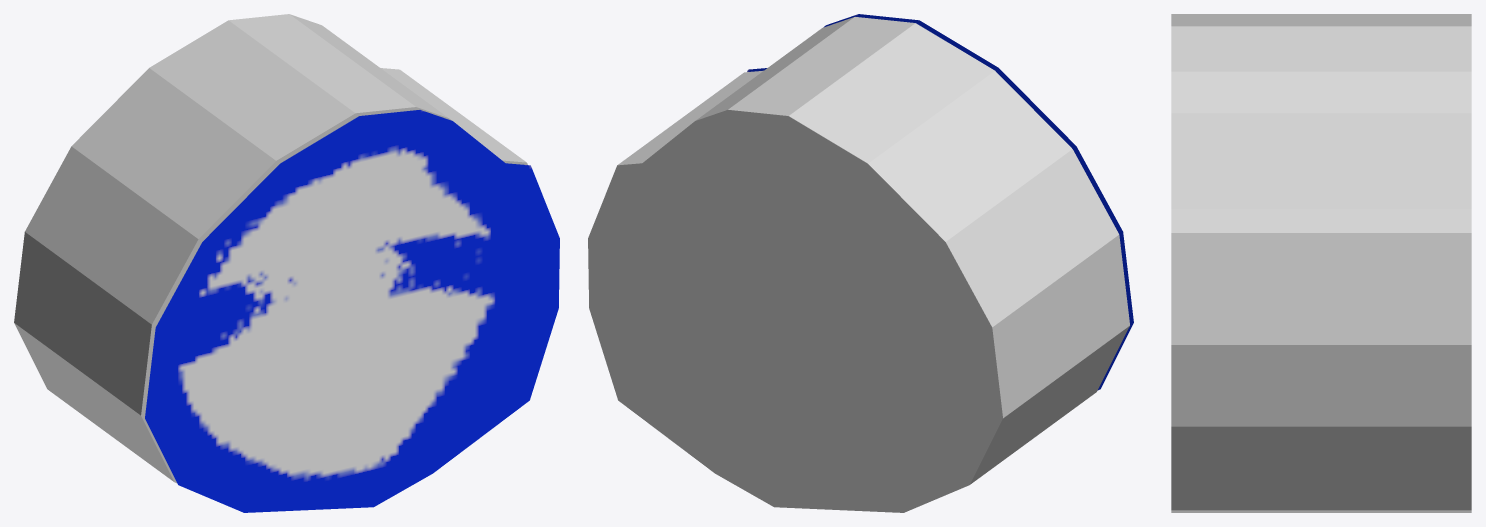
3 views of the same model, side by side, from view 1: azimuth 30°, elevation 25°; view 2: azimuth 150°, elevation 25°; view 3: azimuth 270°, elevation 25° (orthographic). The views are drawn at different scales.
Parts seen in each view (by area): view 1: In2_1, In2_0; view 2: In2_0, In2_1; view 3: In2_0.
Part boxes in pixels (bbox=[...]): In2_1: bbox=[145, 110, 559, 512]; In2_0: bbox=[14, 14, 527, 483]; In2_0: bbox=[588, 17, 1129, 512]; In2_1: bbox=[747, 14, 1133, 390]; In2_0: bbox=[1171, 14, 1471, 512].
Bounding box in the file's own units: 0.9432 × 0.857 × 0.515.
2 materials, 1 textured.
